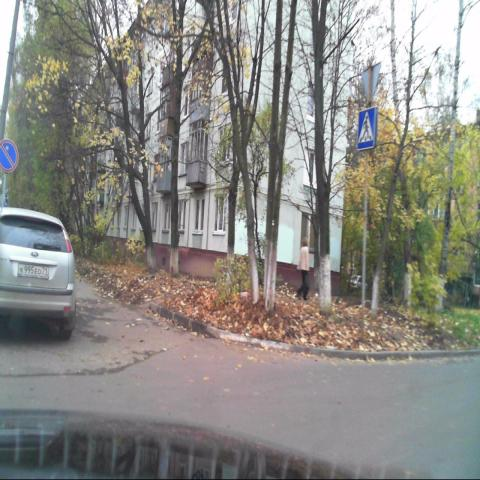3_28: (0, 139, 19, 172)
